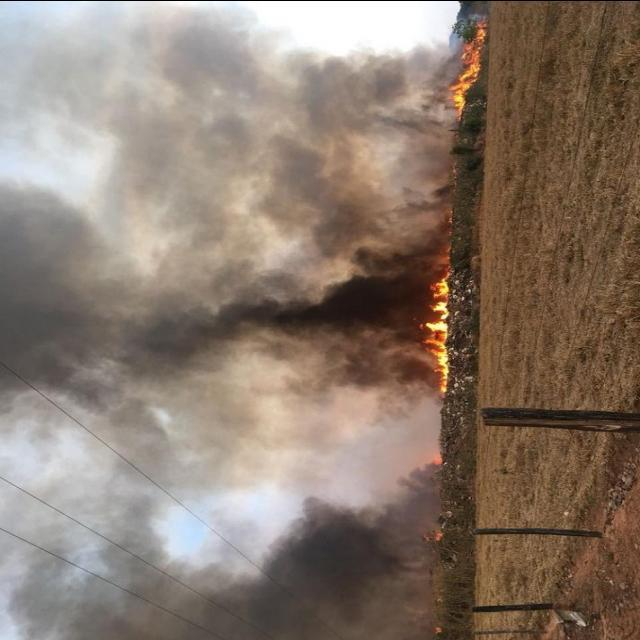Fire: (416, 277, 456, 392), (448, 21, 488, 112), (422, 532, 442, 542), (429, 454, 442, 464)
